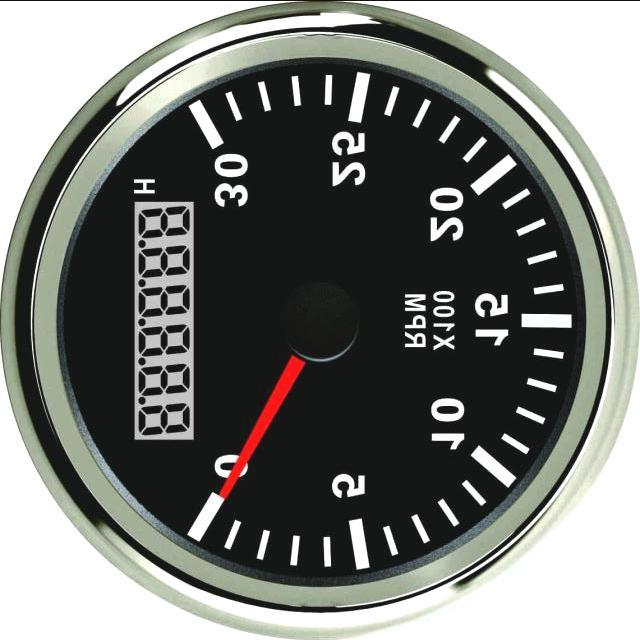Needle_Tip: (214, 454, 246, 502)
Needle_base: (265, 258, 379, 381)
max_value: (192, 127, 260, 228)
min_value: (197, 402, 260, 523)
